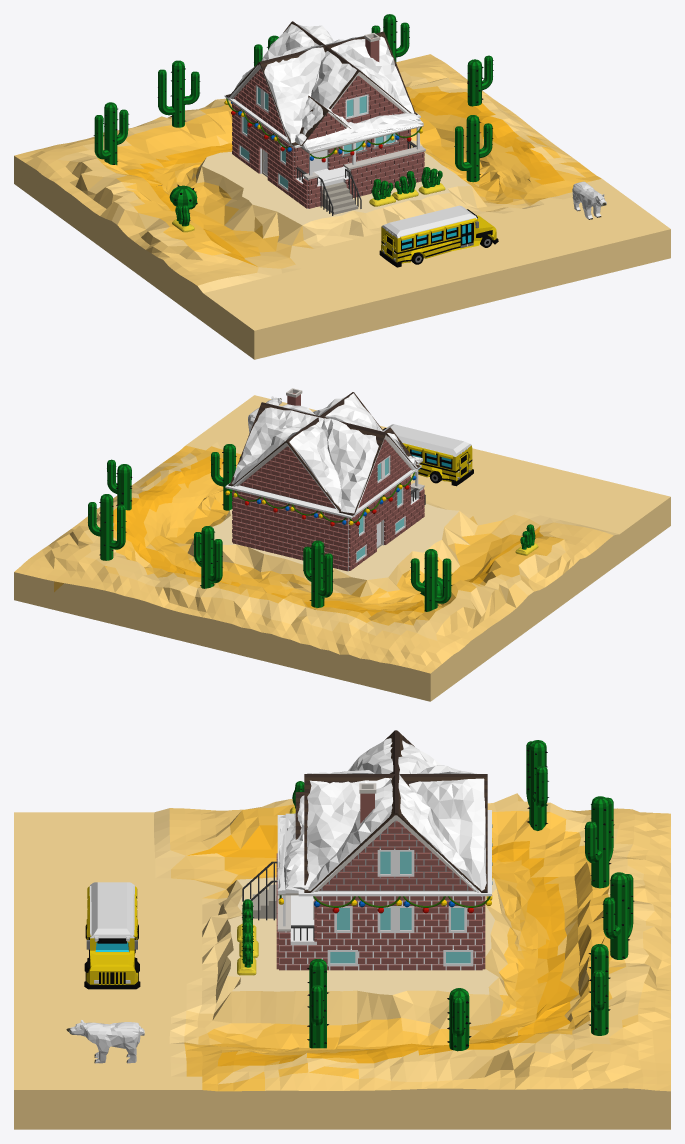
3 renders of one model, top to bottom at view 1: azimuth 30°, elevation 25°; view 2: azimuth 150°, elevation 25°; view 3: azimuth 270°, elevation 25°, orthographic. The views are drawn at different scales.
Parts seen in each view (by area): view 1: Cube.001, Cube.1419, VEHICLES_SCHOOL_BUS, Cylinder.037, Cylinder.044, Cylinder.045, Cylinder.038, Cylinder.042, ANIMAL_OSO_POLAR, Cylinder.039, Cylinder.041, Sphere.023 (+1 smaller); view 2: Cube.001, Cube.1419, VEHICLES_SCHOOL_BUS, Cylinder.042, Cylinder.045, Cylinder.044, Cylinder.043, Cylinder.037, Cylinder.038; view 3: Cube.001, Cube.1419, VEHICLES_SCHOOL_BUS, Cylinder.043, Cylinder.044, ANIMAL_OSO_POLAR, Cylinder.045, Cylinder.042, Cylinder.037, Cylinder.038, Cylinder.041.
Part boxes in pixels (<box>): Cube.001: <box>14,54,670,359</box>; Cube.1419: <box>224,21,425,215</box>; VEHICLES_SCHOOL_BUS: <box>379,205,498,267</box>; Cylinder.037: <box>454,115,493,182</box>; Cylinder.044: <box>157,60,200,127</box>; Cylinder.045: <box>93,102,129,164</box>; Cylinder.038: <box>467,55,493,106</box>; Cylinder.042: <box>371,14,409,62</box>; ANIMAL_OSO_POLAR: <box>572,181,606,219</box>; Cylinder.039: <box>369,179,395,206</box>; Cylinder.041: <box>418,167,445,194</box>; Sphere.023: <box>169,184,197,209</box>; Cube.001: <box>14,395,670,701</box>; Cube.1419: <box>225,388,425,571</box>; VEHICLES_SCHOOL_BUS: <box>383,424,473,486</box>; Cylinder.042: <box>88,494,126,560</box>; Cylinder.045: <box>410,549,452,611</box>; Cylinder.044: <box>303,540,333,607</box>; Cylinder.043: <box>193,526,222,588</box>; Cylinder.037: <box>211,444,240,510</box>; Cylinder.038: <box>107,459,132,510</box>; Cube.001: <box>14,793,670,1129</box>; Cube.1419: <box>242,730,492,970</box>; VEHICLES_SCHOOL_BUS: <box>84,882,140,989</box>; Cylinder.043: <box>602,872,634,959</box>; Cylinder.044: <box>584,796,614,888</box>; ANIMAL_OSO_POLAR: <box>66,1020,144,1063</box>; Cylinder.045: <box>526,740,548,830</box>; Cylinder.042: <box>588,944,610,1035</box>; Cylinder.037: <box>307,959,328,1048</box>; Cylinder.038: <box>447,988,471,1051</box>; Cylinder.041: <box>237,932,256,975</box>.
Size of the model in its own units: 4002 by 1630 by 4001.
Materials: 36 (2 with a texture image).
